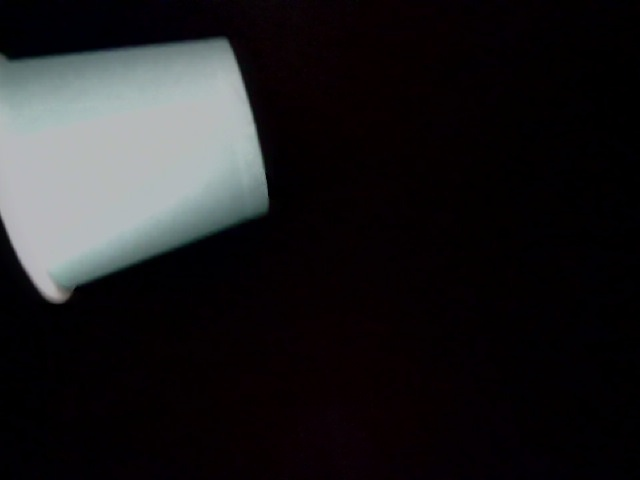CYLJ: (257, 1, 349, 92)
